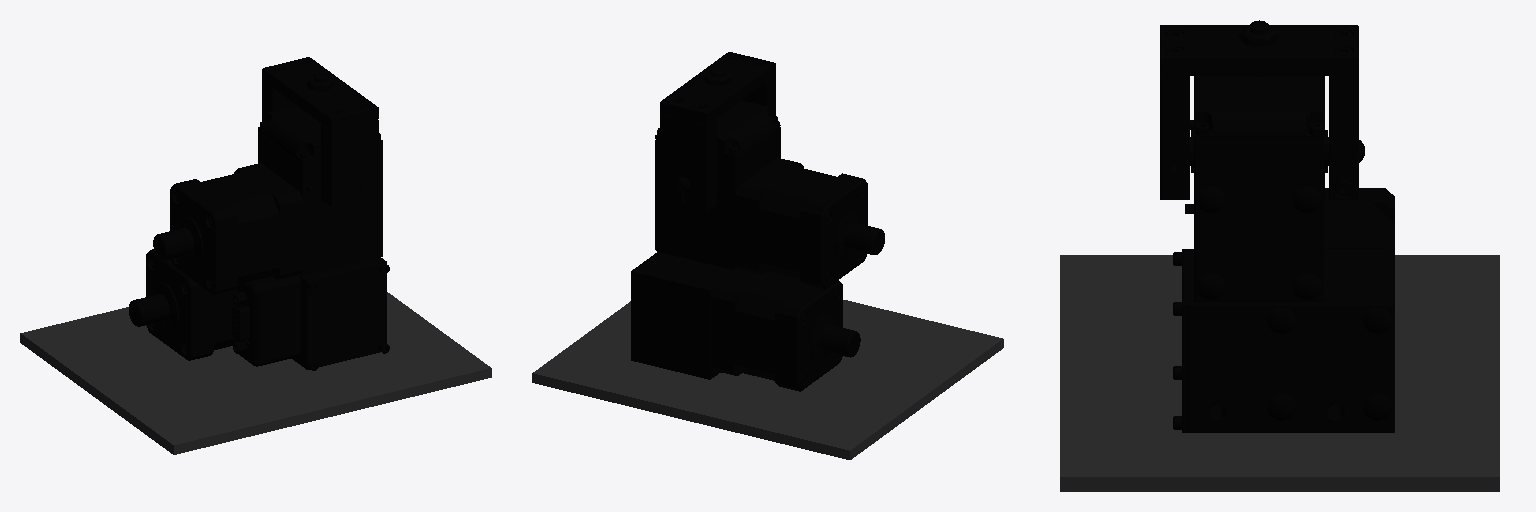
URDF robot description (dp_ptu_46):
<?xml version="1.0" ?>
<!-- =================================================================================== -->
<!-- |    This document was autogenerated by xacro from [local-path]/catkin_ws/src/dp_ptu_46_description/dp_ptu_46.urdf.xacro | -->
<!-- |    EDITING THIS FILE BY HAND IS NOT RECOMMENDED                                 | -->
<!-- =================================================================================== -->
<robot name="dp_ptu_46" xmlns:xacro="http://www.ros.org/wiki/xacro">
  <link name="ptu_base_plate_link">
    <visual>
      <origin rpy="0 0 0" xyz="-0.035 0 0.0025"/>
      <geometry>
        <box size="0.17 0.142 0.005"/>
      </geometry>
      <material name="black">
        <color rgba="0.2 0.2 0.2 1"/>
      </material>
    </visual>
  </link>
  <joint name="ptu_base_plate_joint" type="fixed">
    <parent link="ptu_base_plate_link"/>
    <child link="ptu_base_link"/>
    <origin rpy="0 0 0" xyz="0.0 0.0 0.0"/>
  </joint>
  <link name="ptu_base_link">
    </link>
  <joint name="ptu_base_joint" type="fixed">
    <parent link="ptu_base_link"/>
    <child link="ptu_pan_link"/>
    <origin rpy="0 0 0" xyz="0.0 0 0.005"/>
  </joint>
  <link name="ptu_pan_link">
    <visual>
      <origin rpy="0 0 0" xyz="0 0.0 0.025"/>
      <geometry>
        <mesh filename="package://dp_ptu_46_description/meshes/pan.dae"/>
      </geometry>
    </visual>
    <collision>
      <origin xyz="0 0.0115 0.047"/>
      <geometry>
        <box size="0.154 0.177 0.094"/>
      </geometry>
    </collision>
  </link>
  <joint name="ptu_pan_joint" type="revolute">
    <parent link="ptu_base_link"/>
    <child link="ptu_tilt_link"/>
    <origin rpy="0 0 0" xyz="-0.00436 -0.0067 0.03"/>
    <limit effort="100.0" lower="-2.775" upper="2.775" velocity="1.0"/>
    <axis xyz="0 0 1"/>
  </joint>
  <link name="ptu_tilt_link">
    <visual>
      <origin rpy="0 0 0" xyz="0.00436 0.0067 0.0"/>
      <geometry>
        <mesh filename="package://dp_ptu_46_description/meshes/tilt.dae"/>
      </geometry>
    </visual>
    <collision>
      <origin xyz="0 0.0115 0.047"/>
      <geometry>
        <box size="0.154 0.177 0.094"/>
      </geometry>
    </collision>
  </link>
  <joint name="ptu_tilt_joint" type="revolute">
    <parent link="ptu_tilt_link"/>
    <child link="ptu_mount_link"/>
    <origin rpy="0 0 0" xyz="0.0 0 0.0659"/>
    <limit effort="100.0" lower="-1.396" upper="0.541" velocity="1.0"/>
    <axis xyz="0 -1 0"/>
  </joint>
  <link name="ptu_mount_link">
    <visual>
      <origin rpy="0 0 0" xyz="0.00436 0.0067 -0.0659"/>
      <geometry>
        <mesh filename="package://dp_ptu_46_description/meshes/mount.dae"/>
      </geometry>
    </visual>
    <collision>
      <origin xyz="0 0.0115 0.047"/>
      <geometry>
        <box size="0.154 0.177 0.094"/>
      </geometry>
    </collision>
  </link>
</robot>

--- Facts derived from the render (not from the file) ---
3 views of the same robot in one strip: view 1: azimuth 30°, elevation 25°; view 2: azimuth 150°, elevation 25°; view 3: azimuth 270°, elevation 25° (orthographic).
Robot: dp_ptu_46 — 5 links, 4 joints (2 revolute, 2 fixed); root link ptu_base_plate_link; default pose: all joints at 0.
Links seen in each view (by area): view 1: ptu_base_plate_link, ptu_tilt_link, ptu_pan_link, ptu_mount_link; view 2: ptu_base_plate_link, ptu_tilt_link, ptu_pan_link, ptu_mount_link; view 3: ptu_base_plate_link, ptu_pan_link, ptu_tilt_link, ptu_mount_link.
Link boxes in pixels (x1,y1,x2,y2): ptu_base_plate_link: [20, 292, 491, 454]; ptu_tilt_link: [153, 106, 382, 294]; ptu_pan_link: [129, 249, 389, 370]; ptu_mount_link: [262, 57, 378, 214]; ptu_base_plate_link: [532, 300, 1003, 459]; ptu_tilt_link: [655, 100, 884, 289]; ptu_pan_link: [631, 252, 860, 391]; ptu_mount_link: [660, 52, 775, 211]; ptu_base_plate_link: [1060, 255, 1499, 491]; ptu_pan_link: [1173, 188, 1394, 432]; ptu_tilt_link: [1185, 76, 1328, 301]; ptu_mount_link: [1160, 20, 1364, 199].
Bounding box of the posed robot: 0.17 × 0.142 × 0.1414 m (x, y, z).
3 mesh visuals loaded from 3 distinct referenced files (3 Collada DAE).